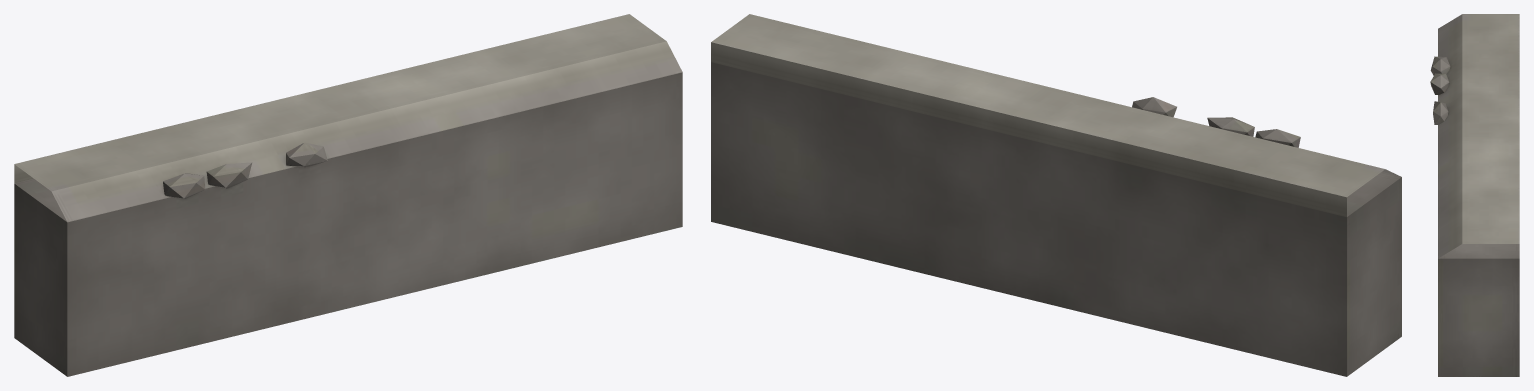
The model's file is curb_straight_idle.glb.
3 views of the same model, side by side, from view 1: azimuth 30°, elevation 25°; view 2: azimuth 150°, elevation 25°; view 3: azimuth 270°, elevation 25° (orthographic). The views are drawn at different scales.
Parts seen in each view (by area): view 1: curb_straight; view 2: curb_straight; view 3: curb_straight.
Part boxes in pixels (x1,y1,x2,y2): curb_straight: (14,14,682,376); curb_straight: (711,14,1401,376); curb_straight: (1430,14,1519,376).
Size of the model in its own units: 1 by 0.2717 by 0.164.
1 material, 1 textured.
